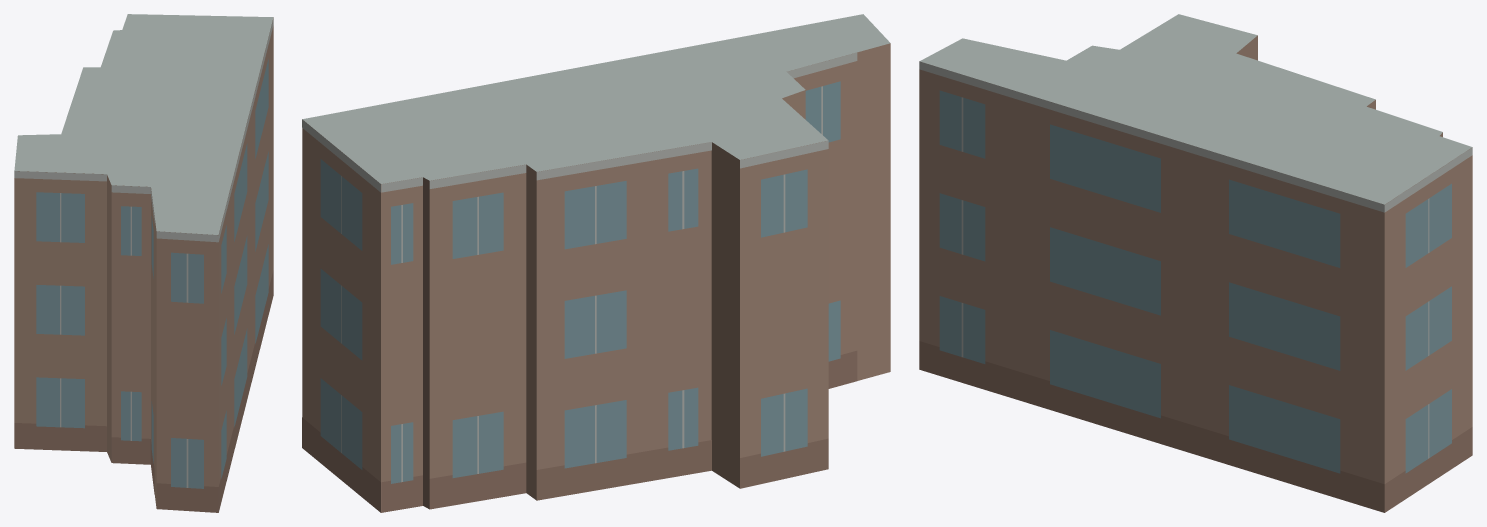
The model's file is survey-upis-33024124.glb.
The picture shows the model from 3 angles, left to right: view 1: azimuth 30°, elevation 25°; view 2: azimuth 150°, elevation 25°; view 3: azimuth 270°, elevation 25°; orthographic projection. The views are drawn at different scales.
Parts seen in each view (by area): view 1: survey-upis-33024124.tmp; view 2: survey-upis-33024124.tmp; view 3: survey-upis-33024124.tmp.
Part boxes in pixels (left/top/right/bottom): survey-upis-33024124.tmp: left=14, top=14, right=273, bottom=512; survey-upis-33024124.tmp: left=302, top=14, right=890, bottom=512; survey-upis-33024124.tmp: left=919, top=14, right=1472, bottom=512.
Size of the model in its own units: 12.48 by 9.4 by 15.3.
